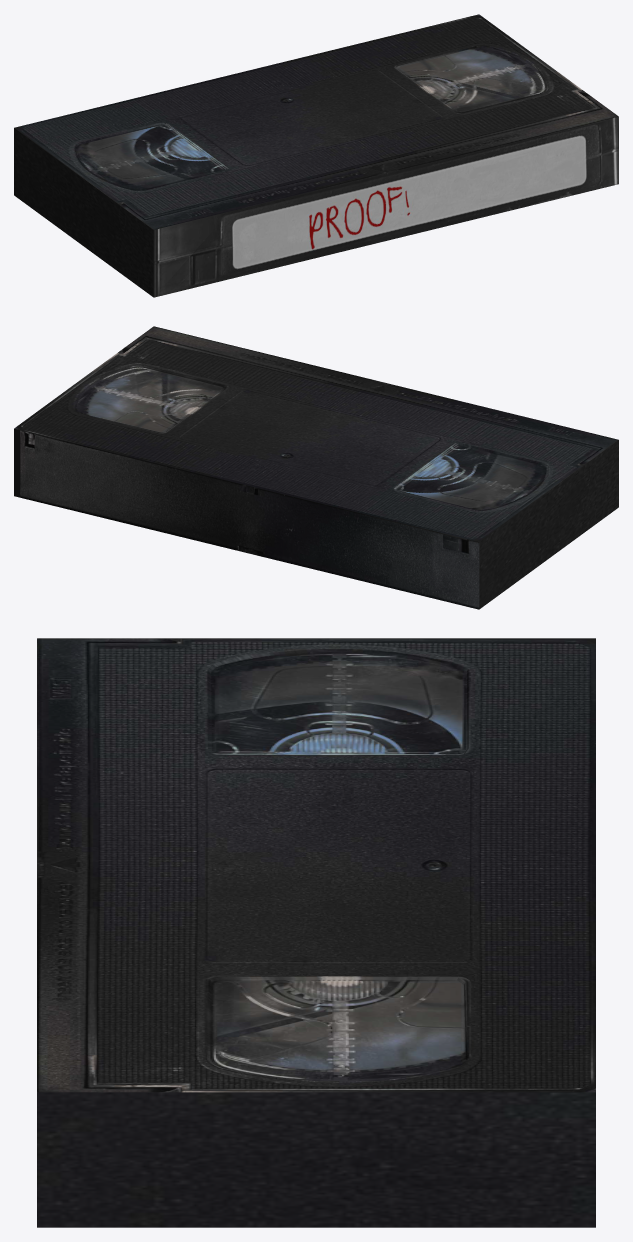
Rendered from slide.glb.
The picture shows the model from 3 angles, top to bottom: view 1: azimuth 30°, elevation 25°; view 2: azimuth 150°, elevation 25°; view 3: azimuth 270°, elevation 25°; orthographic projection. The views are drawn at different scales.
Visible parts, largest first — view 1: tape; view 2: tape; view 3: tape.
Part boxes in pixels (left/top/right/bottom): tape: left=14, top=14, right=618, bottom=297; tape: left=14, top=326, right=618, bottom=609; tape: left=37, top=638, right=595, bottom=1227.
Bounding box in the file's own units: 1.15 × 0.16 × 0.6.
Materials: 1 (1 with a texture image).
